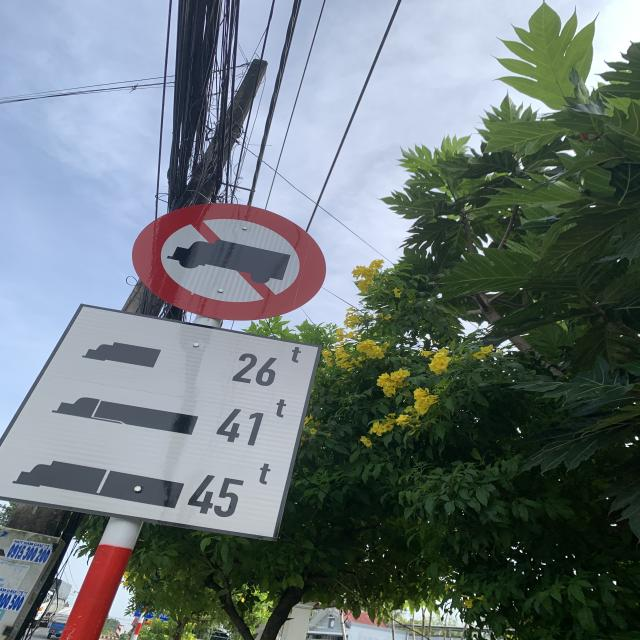Cam_Xe_Tai: (130, 200, 326, 321)
